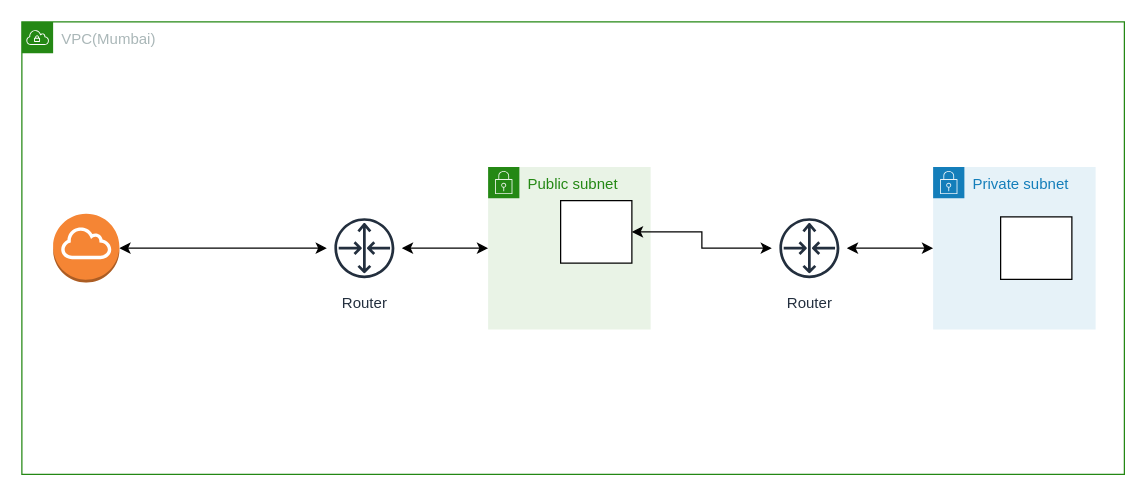
Image size: 1146x496. Some labels were removed from this diagram. Here are the shapes that lost their labels. From the top down, the centre of each, then its label:
At [85,247]: "Internet Gateway".
At [595,231]: "NAT".
At [1035,247]: "EC2".
